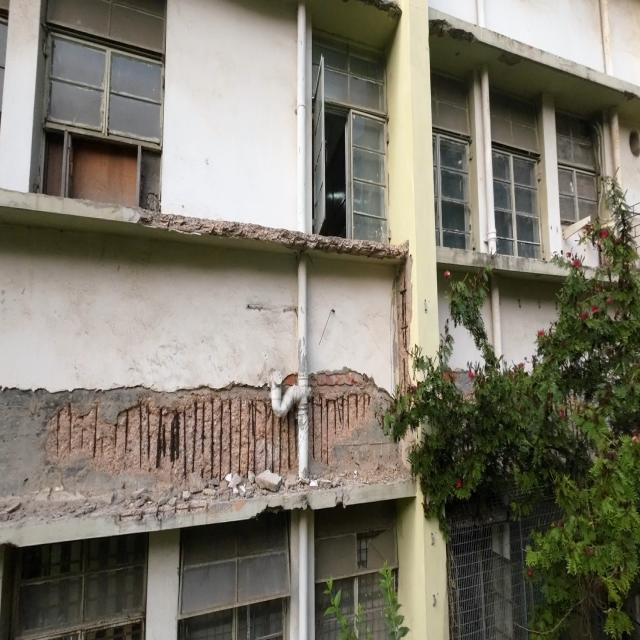peeling: (0, 190, 409, 264)
spalling: (0, 385, 309, 524), (309, 371, 409, 500), (396, 252, 412, 385), (429, 20, 476, 43), (358, 0, 401, 18)
stain_mould: (492, 255, 565, 281), (436, 248, 493, 268)
